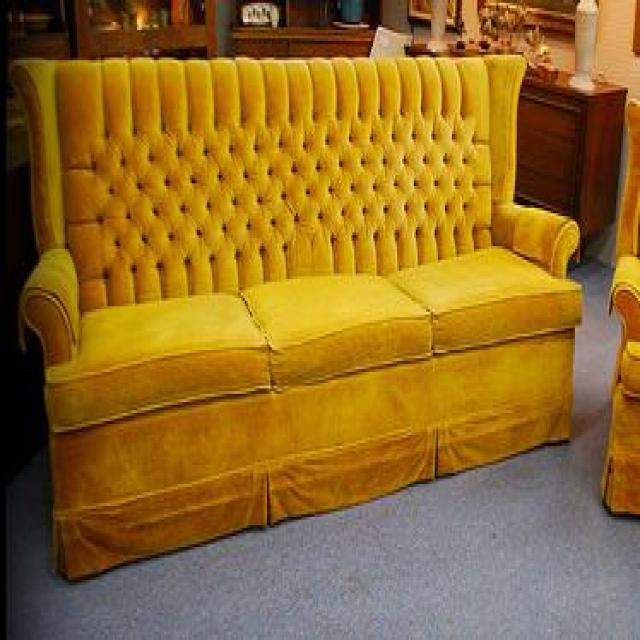sofa: (6, 47, 586, 583)
